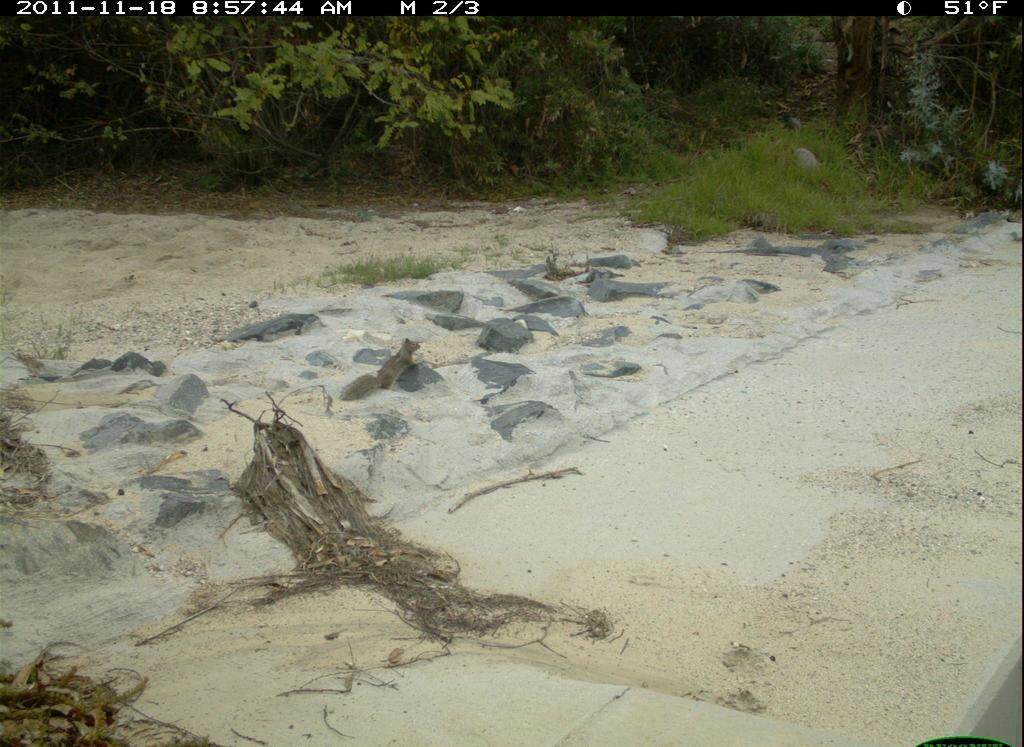squirrel: (337, 336, 428, 404)
